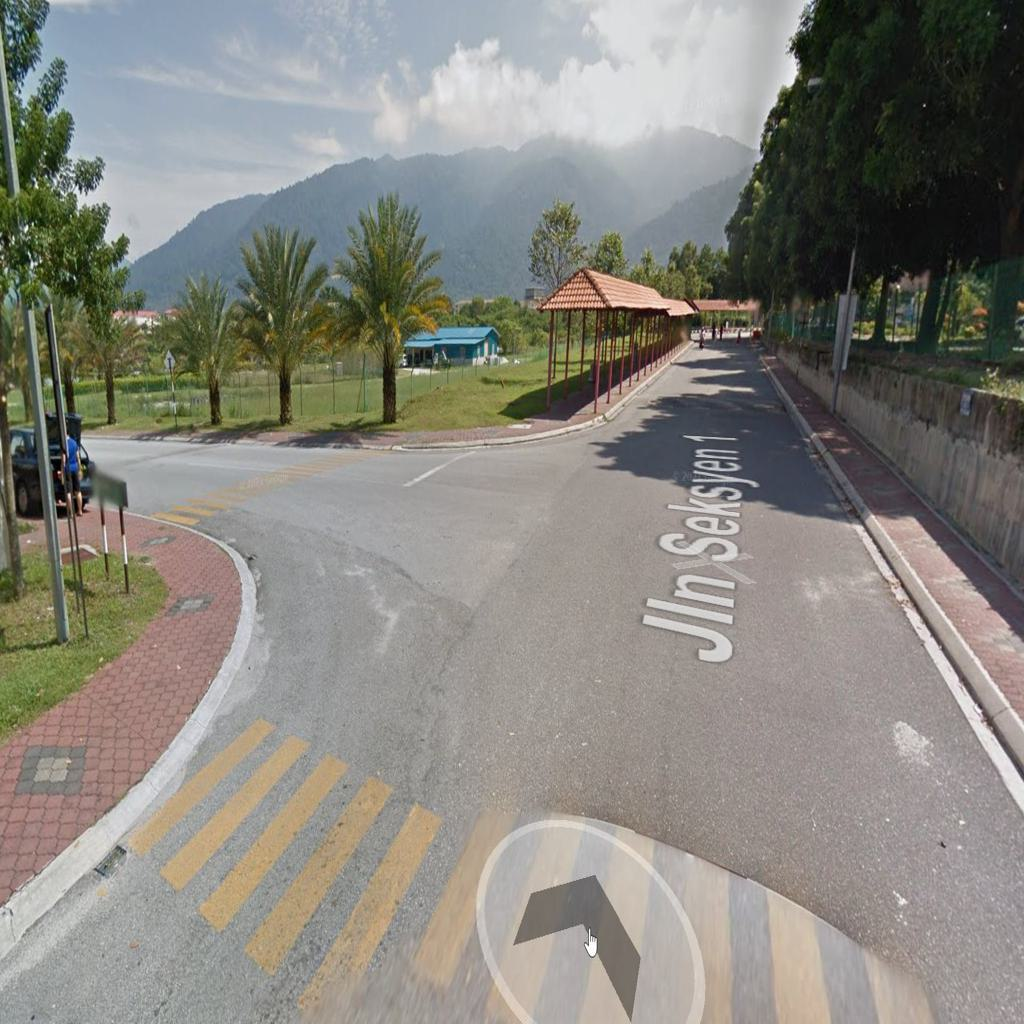Junction: (117, 434, 494, 625)
